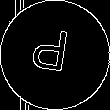P_S: (33, 27, 77, 83)
